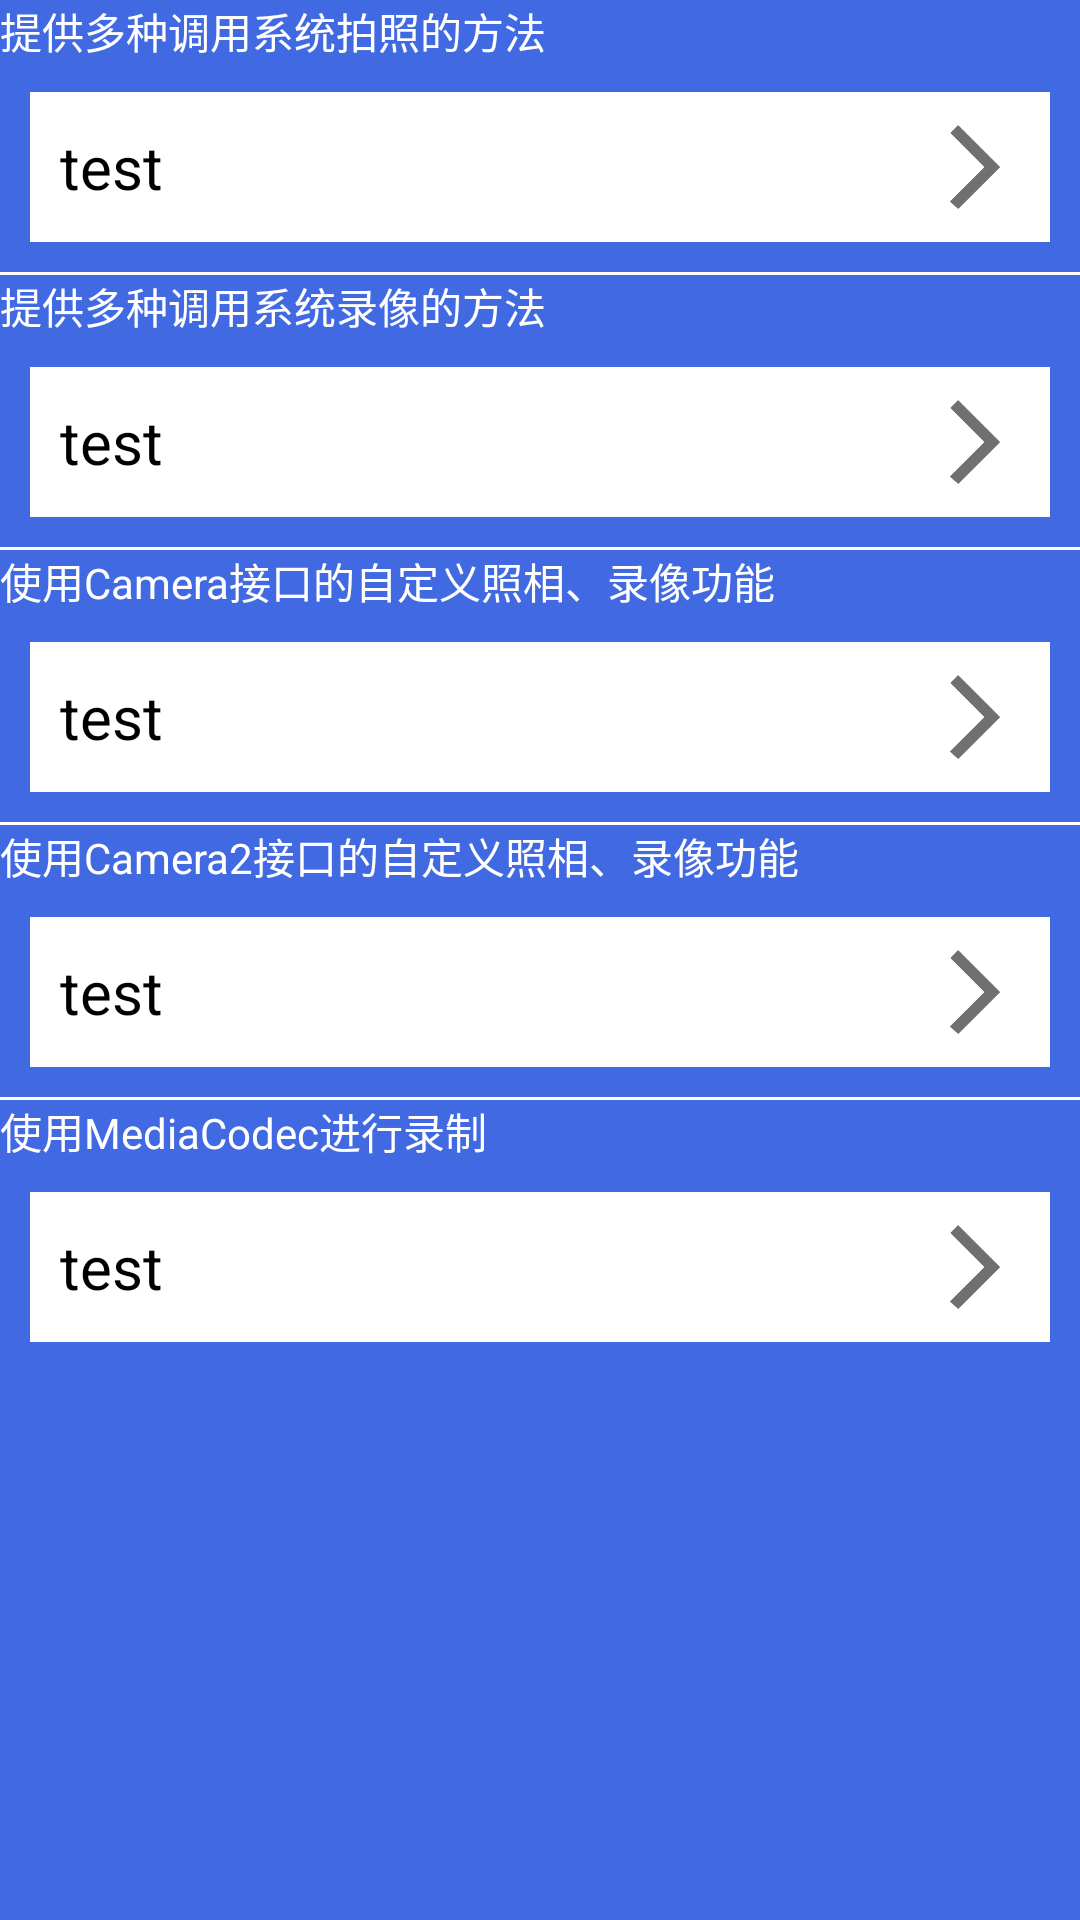

Icons on this 1080 x 1920 Android screen, each with its box as (x1, y1, x2, y2):
arrow right: (950, 125, 1000, 209), (950, 400, 1000, 484), (950, 675, 1000, 759), (950, 950, 1000, 1034), (950, 1225, 1000, 1309)
